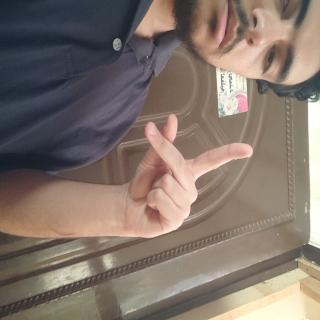DHAA: (82, 84, 180, 274)
